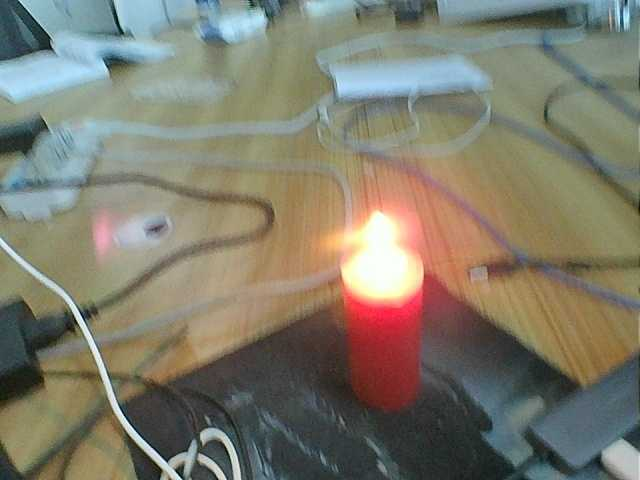candle: (336, 297, 427, 410)
fire: (329, 209, 429, 292)
